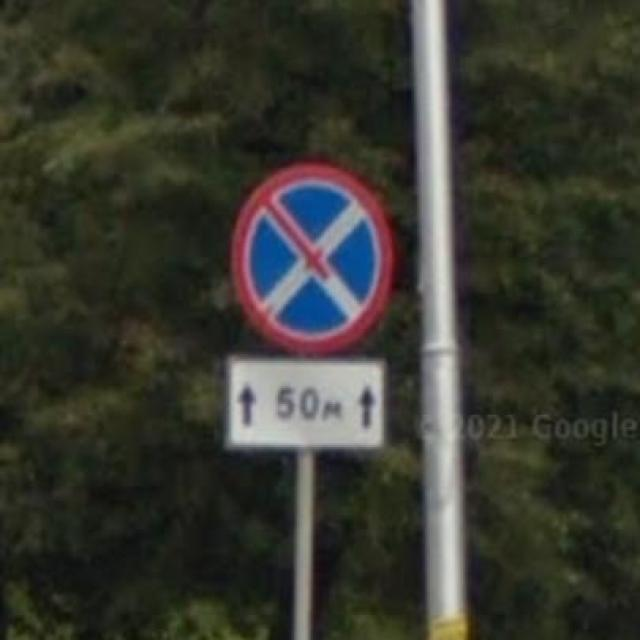traffic_sign: (229, 161, 395, 356)
